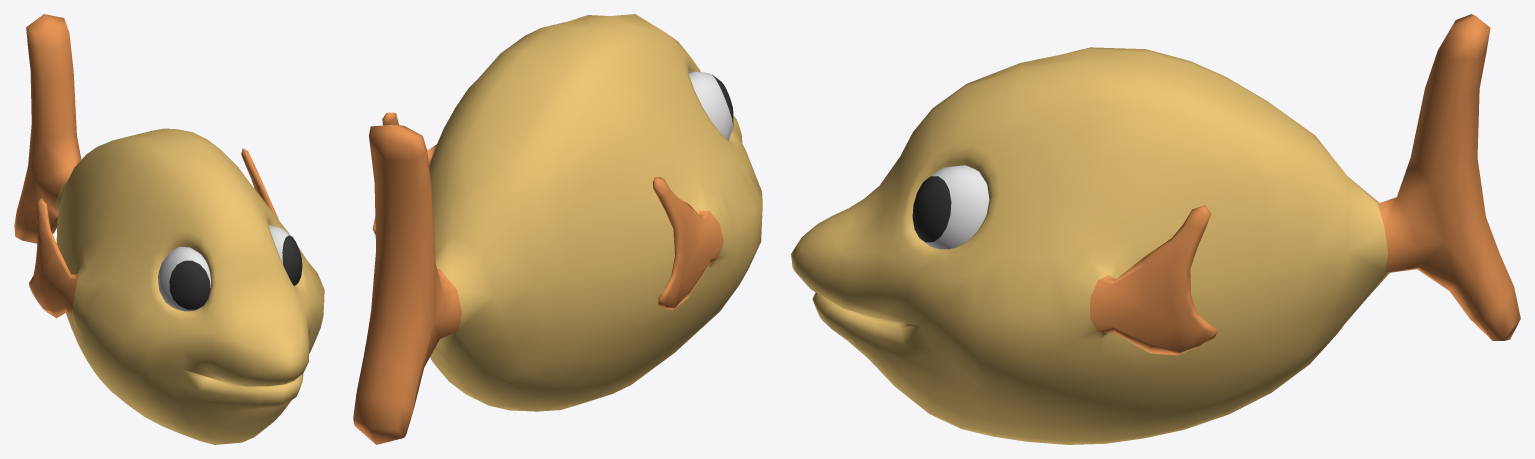
3 views of the same model, side by side, from view 1: azimuth 30°, elevation 25°; view 2: azimuth 150°, elevation 25°; view 3: azimuth 270°, elevation 25° (orthographic). The views are drawn at different scales.
Visible parts, largest first — view 1: fish; view 2: fish; view 3: fish.
Part boxes in pixels (left/top/right/bottom): fish: left=14, top=14, right=324, bottom=444; fish: left=353, top=14, right=762, bottom=444; fish: left=791, top=14, right=1520, bottom=444.
Bounding box in the file's own units: 0.2287 × 0.2911 × 0.4604.
